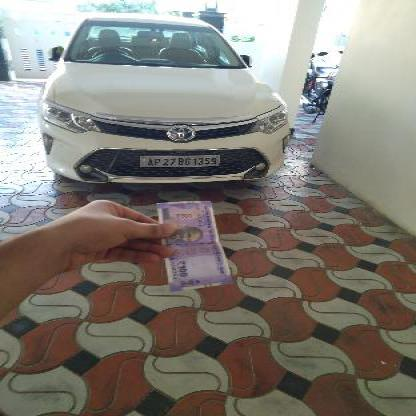New100Front: (160, 204, 232, 290)
